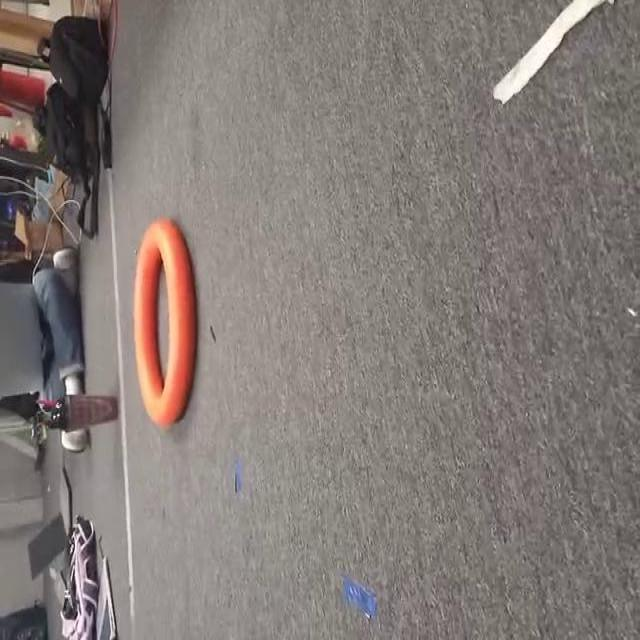note: (126, 212, 210, 438)
